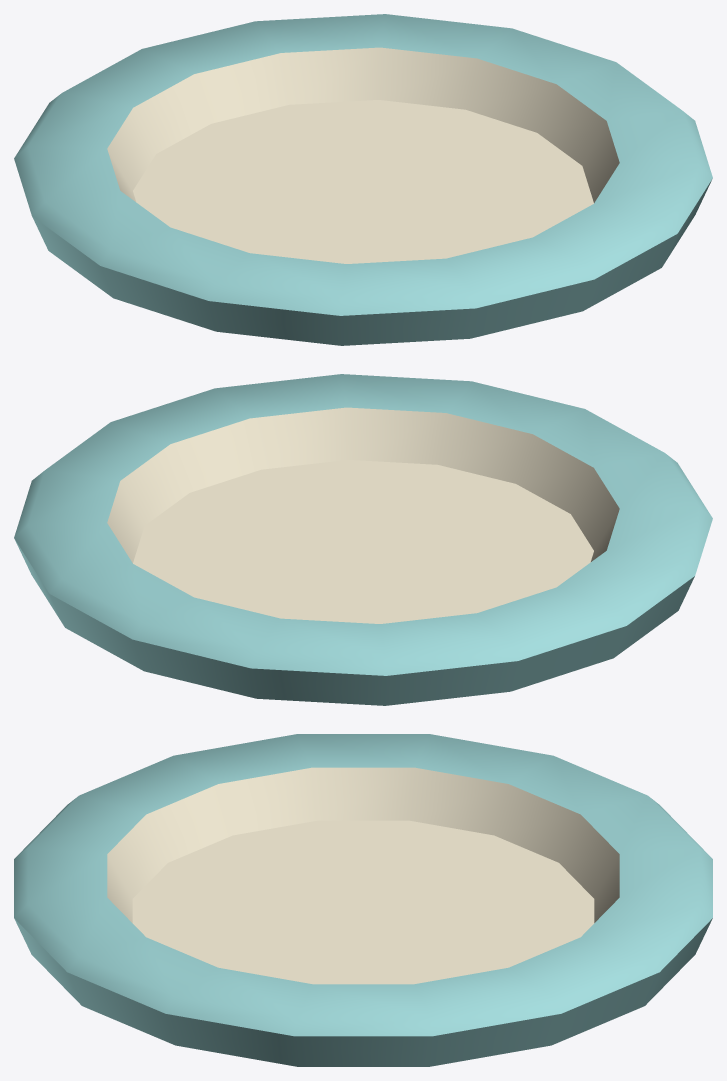
The model's file is itch_tiny_pleasant_picnic_plate_a.glb.
3 views of the same model, one above another, from view 1: azimuth 30°, elevation 25°; view 2: azimuth 150°, elevation 25°; view 3: azimuth 270°, elevation 25° (orthographic).
Parts seen in each view (by area): view 1: plate_A; view 2: plate_A; view 3: plate_A.
Part boxes in pixels (x1=…): plate_A: x1=14, y1=14, x2=712, y2=345; plate_A: x1=14, y1=374, x2=712, y2=705; plate_A: x1=14, y1=734, x2=712, y2=1066.
Size of the model in its own units: 0.42 by 0.056 by 0.42.
